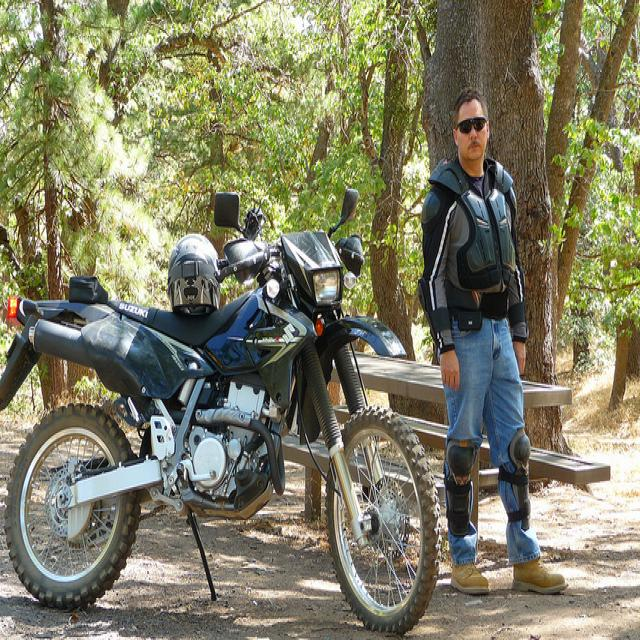motor: (0, 184, 440, 571)
